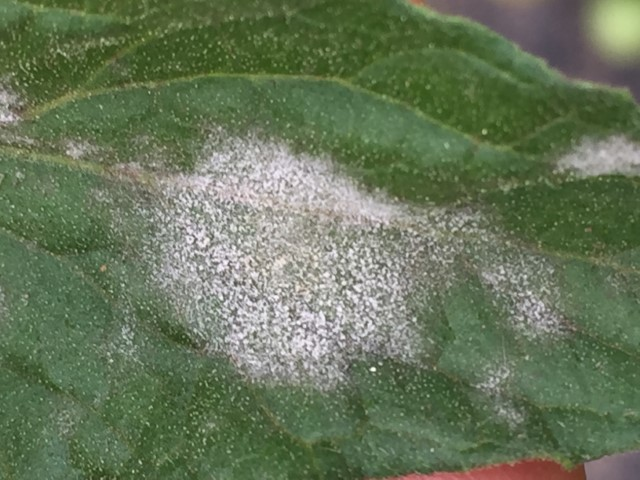oidio: (122, 123, 461, 399), (463, 207, 568, 344), (472, 363, 529, 435), (552, 132, 640, 178), (61, 134, 107, 162), (1, 92, 21, 131)
